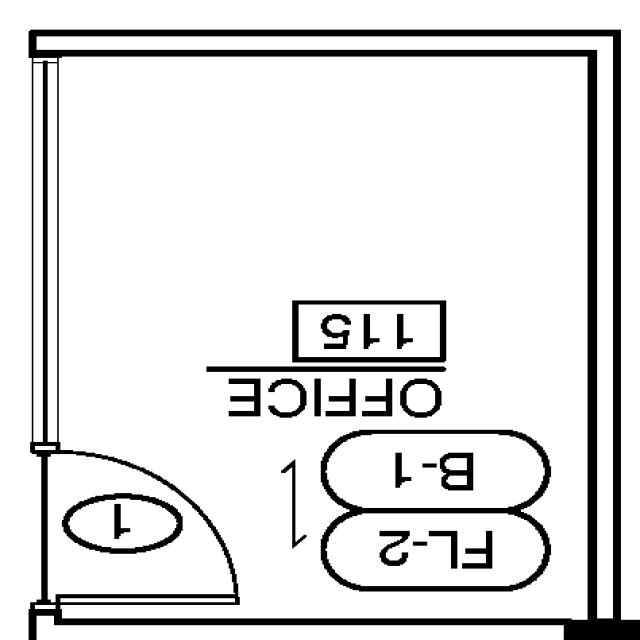Doors: (34, 439, 246, 612)
